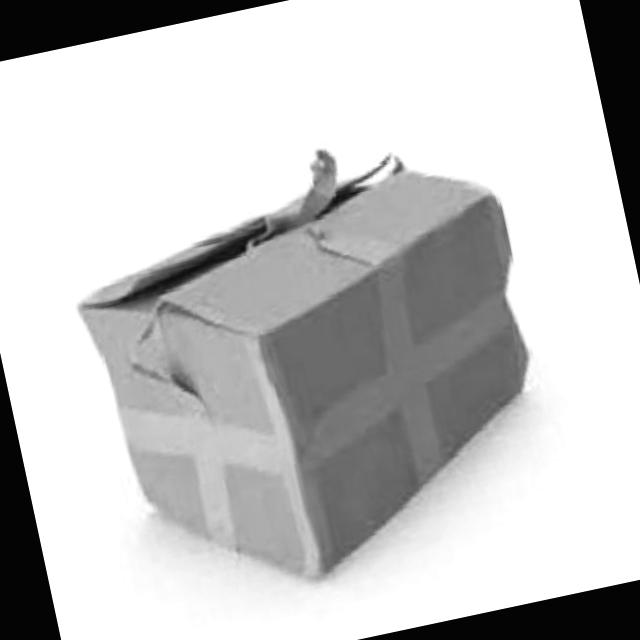box: (55, 103, 628, 614)
